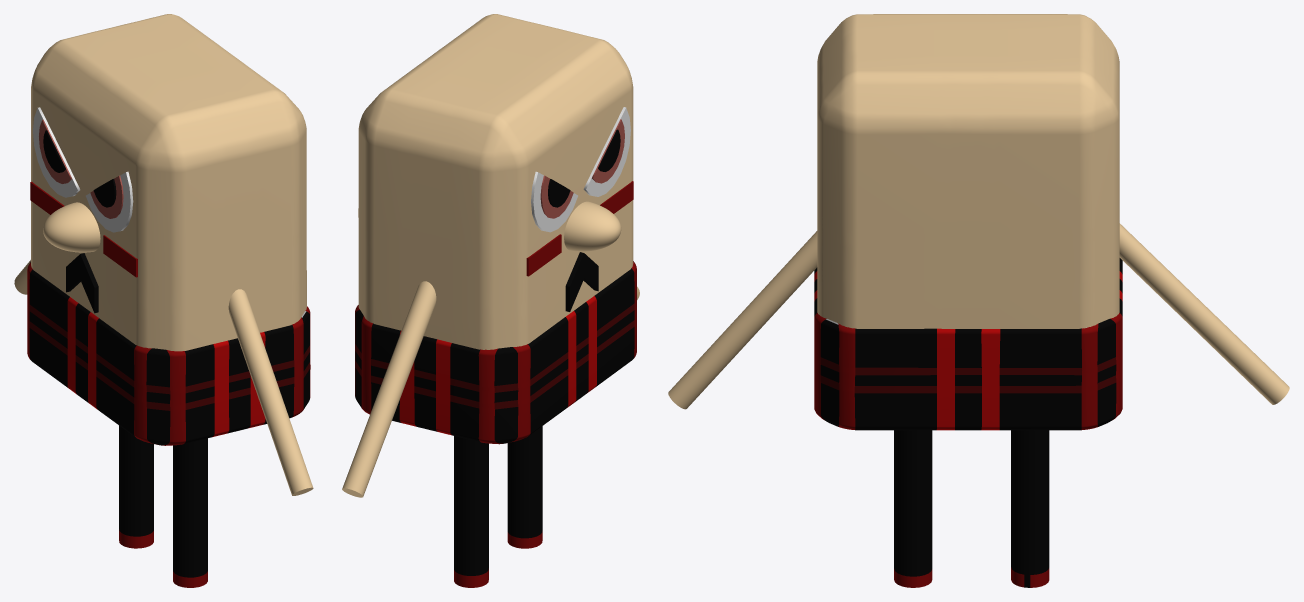
The model's file is Villager.fbx.
The picture shows the model from 3 angles, left to right: view 1: azimuth 30°, elevation 25°; view 2: azimuth 150°, elevation 25°; view 3: azimuth 270°, elevation 25°; orthographic projection. The views are drawn at different scales.
Parts seen in each view (by area): view 1: pCube1, pCube3, pCylinder8, pCylinder9, pCylinder7, pSphere1, pCylinder2, pCube2, pCylinder1, pCube4, pCylinder4, pCylinder3 (+3 smaller); view 2: pCube1, pCube3, pCylinder10, pCylinder7, pCylinder8, pSphere1, pCylinder1, pCube2, pCylinder2, pCube5, pCylinder3, pCylinder4 (+3 smaller); view 3: pCube1, pCube3, pCylinder7, pCylinder8, pCylinder10, pCylinder9.
Part boxes in pixels (box(x1,y1,x2,y2)): pCube1: box(31, 14, 306, 351); pCube3: box(27, 262, 310, 445); pCylinder8: box(173, 438, 207, 587); pCylinder9: box(228, 289, 313, 495); pCylinder7: box(119, 425, 153, 548); pSphere1: box(43, 202, 100, 252); pCylinder2: box(33, 107, 80, 197); pCube2: box(66, 253, 98, 313); pCylinder1: box(86, 171, 133, 232); pCube4: box(103, 235, 137, 277); pCylinder4: box(39, 119, 72, 183); pCylinder3: box(90, 175, 123, 218); pCube1: box(358, 14, 633, 349); pCube3: box(355, 261, 636, 444); pCylinder10: box(342, 281, 436, 497); pCylinder7: box(454, 436, 488, 587); pCylinder8: box(507, 426, 542, 548); pSphere1: box(564, 201, 621, 251); pCylinder1: box(583, 107, 630, 196); pCube2: box(565, 252, 598, 311); pCylinder2: box(531, 171, 577, 232); pCube5: box(526, 234, 561, 276); pCylinder3: box(592, 119, 624, 183); pCylinder4: box(540, 175, 573, 218); pCube1: box(817, 14, 1119, 328); pCube3: box(814, 258, 1122, 430); pCylinder7: box(1011, 430, 1049, 587); pCylinder8: box(894, 430, 932, 587); pCylinder10: box(1119, 223, 1289, 404); pCylinder9: box(668, 231, 817, 409).
Bounding box in the file's own units: 3.7 × 8.34 × 8.72.
